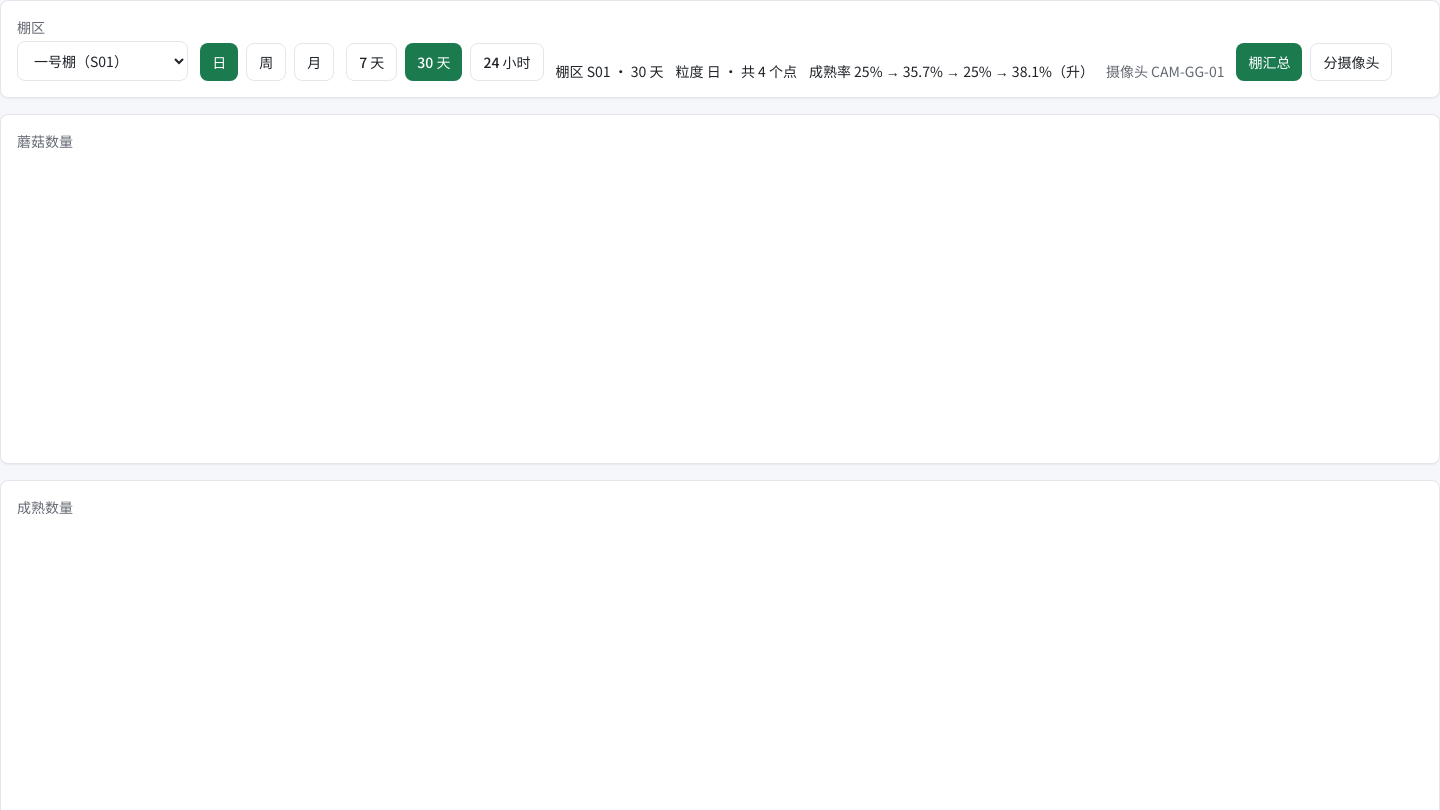
Test: GrowthTrendsView › opens week grain with fewer period labels than the day series
The width and height of the screenshot is (1440, 810).
Click the button "周": (266, 62) [246,43,286,81]
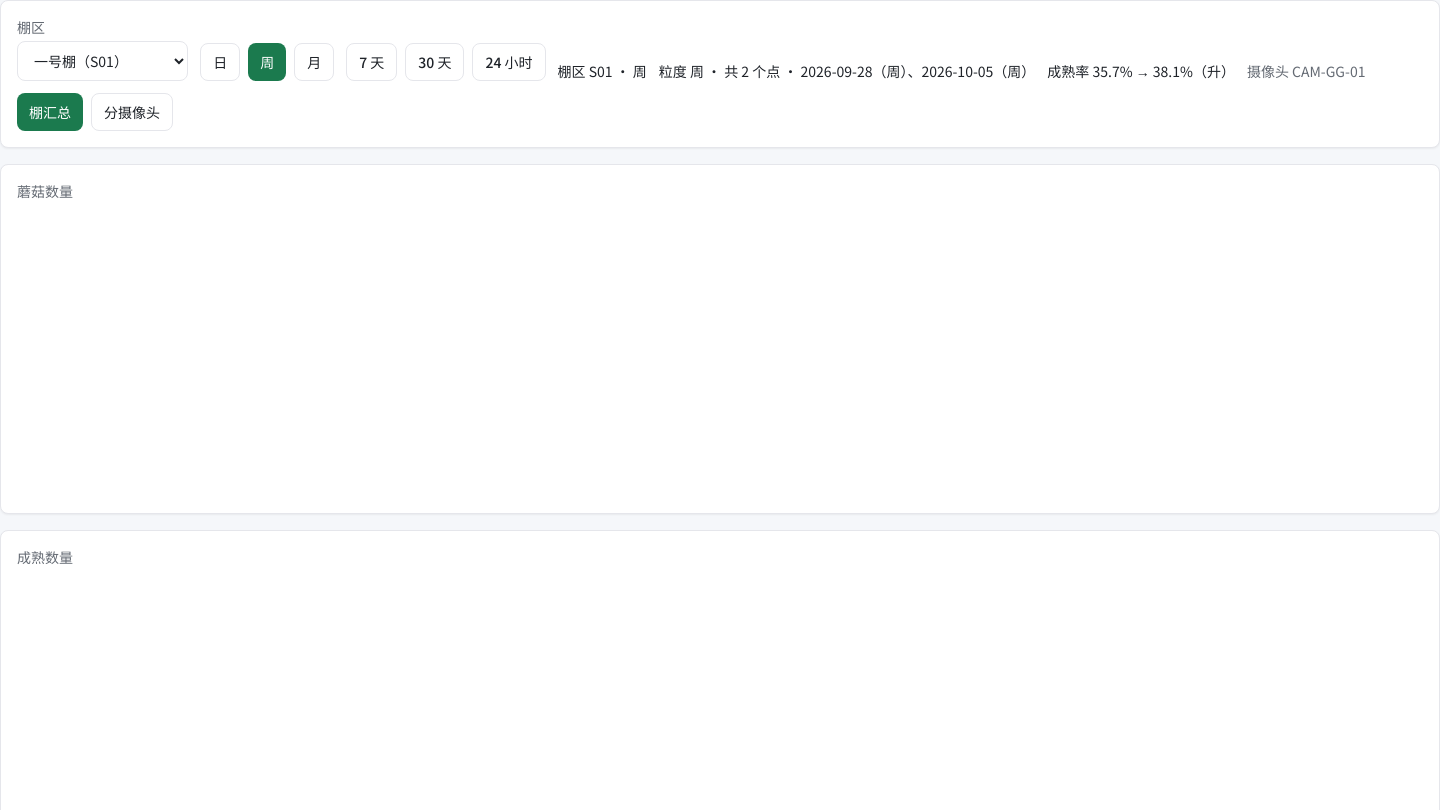
Expected: the text "棚区 S01 · 周" is shown, [558,61,647,81]
Expected: the text "粒度 周 · 共 2 个点" is shown, [659,61,1035,81]
Expected: the text "2026-09-28（周）" is shown, [659,61,1035,81]
Click the button "月": (314, 62) [294,43,334,81]
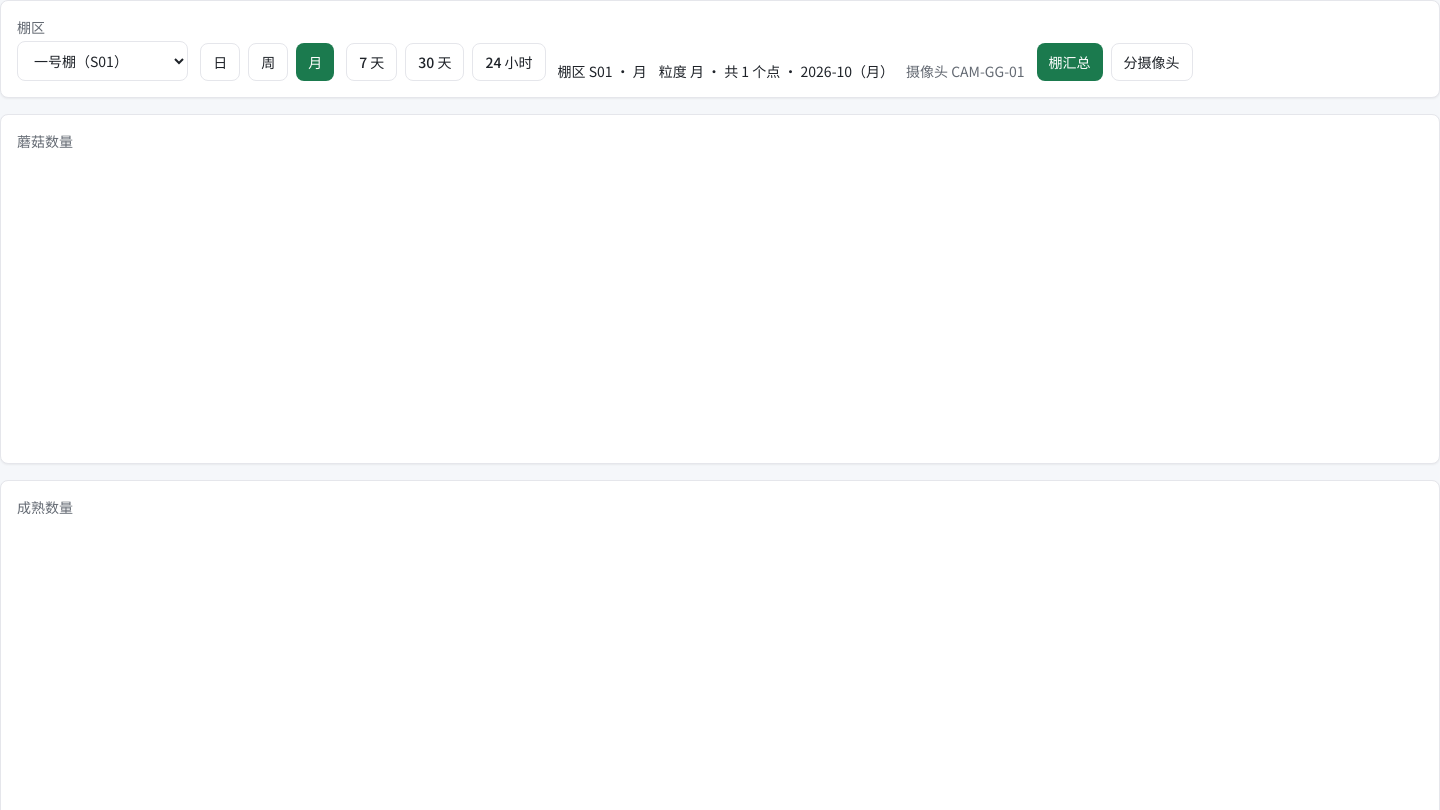
Expected: the text "棚区 S01 · 月" is shown, [558,61,647,81]
Expected: the text "粒度 月 · 共 1 个点" is shown, [659,61,894,81]
Expected: the text "2026-10（月）" is shown, [659,61,894,81]
Click the button "日": (220, 62) [200,43,240,81]
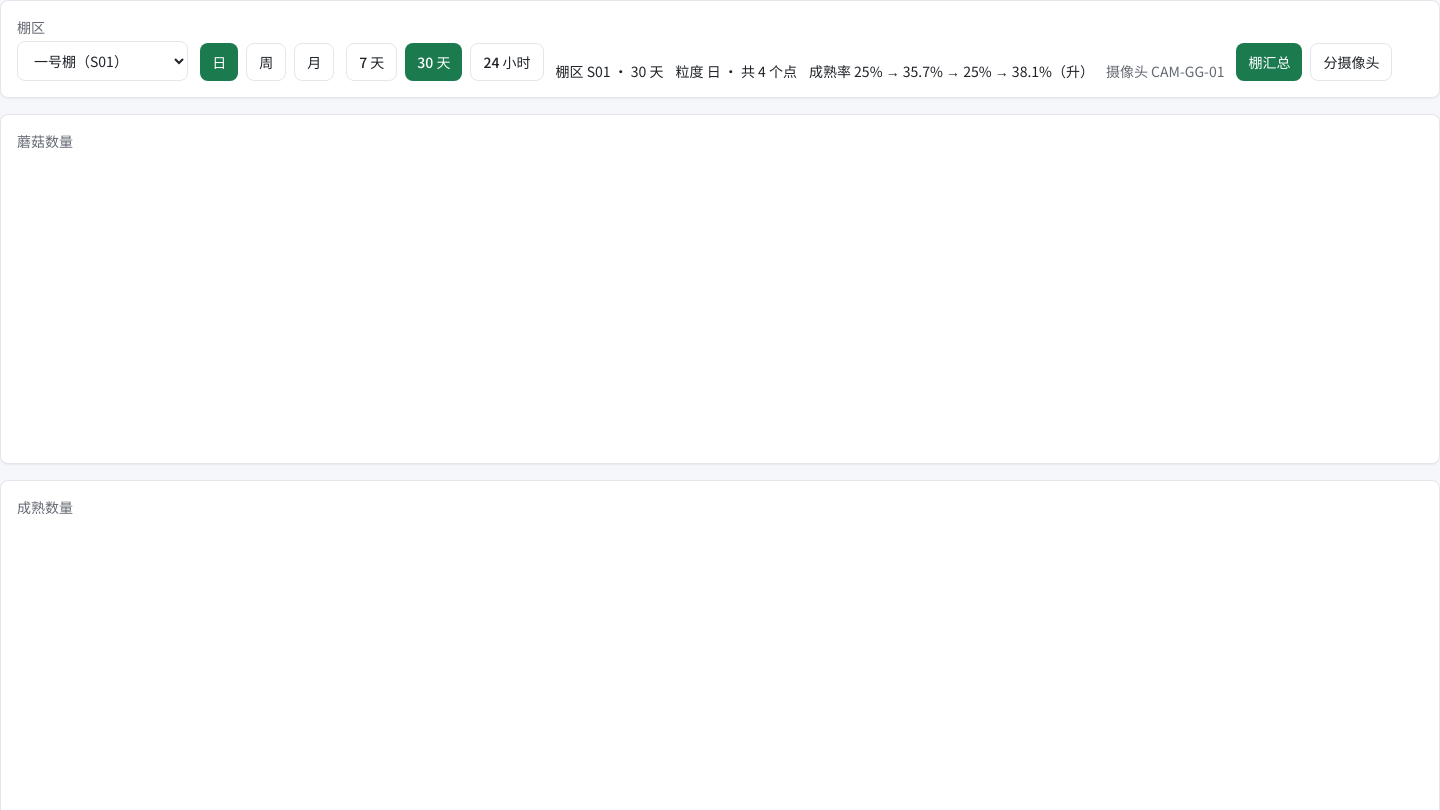
Expected: the text "粒度 日 · 共 4 个点" is shown, [676,61,797,81]
